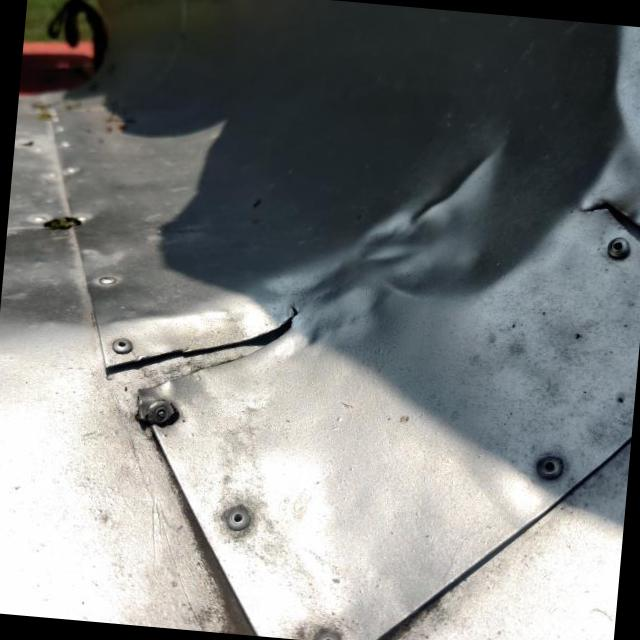Crack: (103, 302, 303, 398), (586, 202, 640, 240)
Dent: (260, 0, 640, 328)
